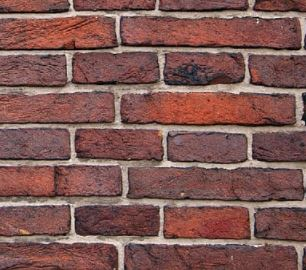brick: (120, 14, 302, 51), (118, 91, 298, 126), (128, 168, 304, 203), (123, 243, 305, 269), (1, 13, 117, 50), (1, 89, 117, 123), (72, 51, 160, 85), (1, 243, 117, 268), (74, 128, 165, 159), (160, 205, 250, 236), (164, 52, 245, 85), (165, 132, 250, 162), (74, 206, 161, 235), (1, 126, 73, 161), (1, 203, 70, 236), (1, 53, 68, 86), (247, 52, 306, 88), (57, 166, 122, 196), (251, 132, 306, 164), (255, 208, 306, 242), (1, 166, 56, 196), (158, 1, 250, 11), (72, 1, 157, 11), (1, 1, 72, 12), (252, 1, 306, 14)
